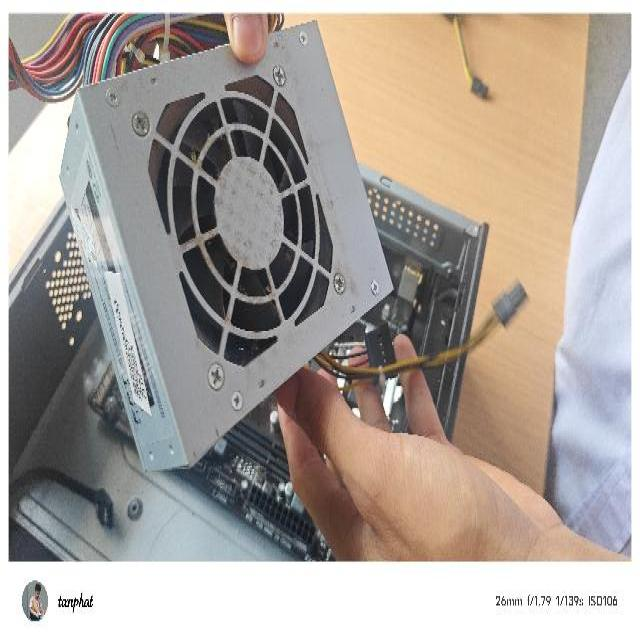PSU: (56, 17, 400, 474)
